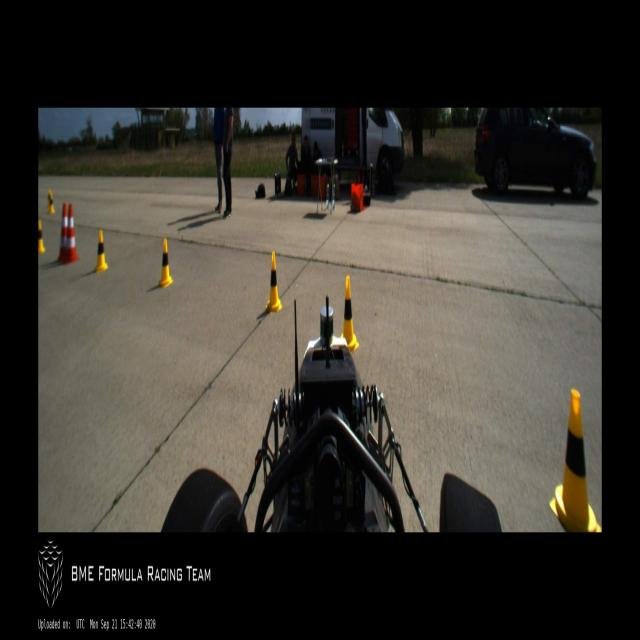large_orange_cone: (64, 204, 78, 264), (57, 203, 69, 263)
yellow_cone: (549, 388, 601, 532), (340, 276, 358, 356), (266, 251, 282, 312), (158, 237, 173, 286), (94, 230, 108, 273), (38, 220, 45, 254), (48, 192, 55, 214), (46, 189, 51, 208)
